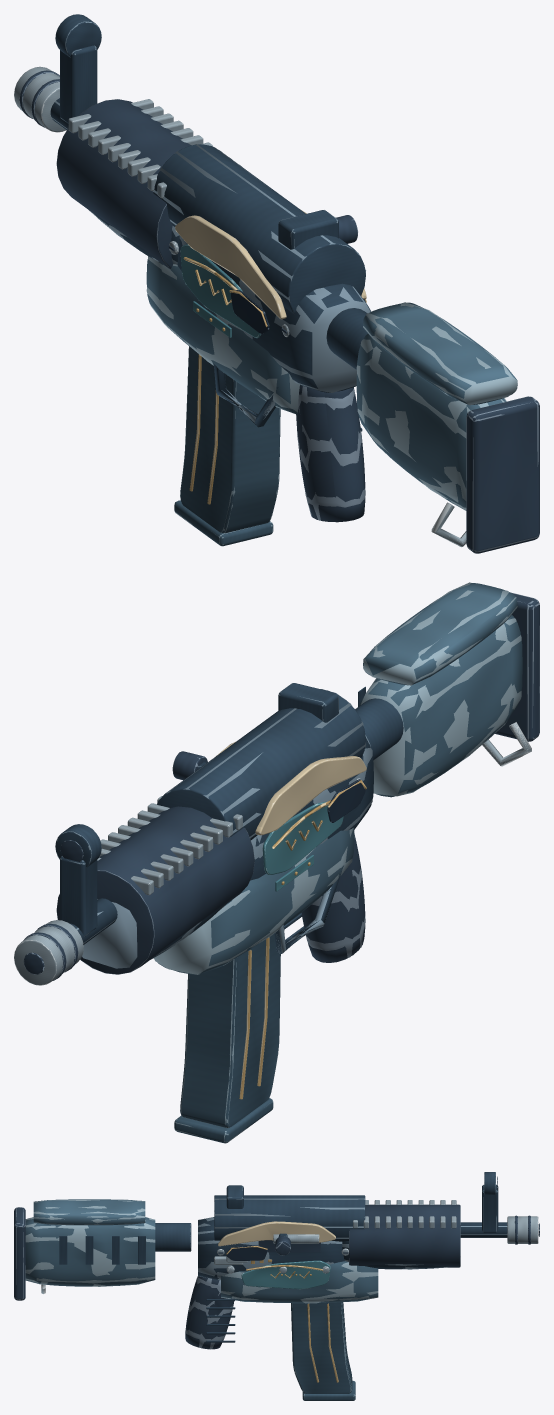
The model's file is anime-ump45.glb.
The picture shows the model from 3 angles, top to bottom: view 1: azimuth 30°, elevation 25°; view 2: azimuth 150°, elevation 25°; view 3: azimuth 270°, elevation 25°; orthographic projection. The views are drawn at different scales.
Visible parts, largest first — view 1: weapon_Polymer, weapon_Weapon finish / Polymer, weapon_Weapon finish / Parkerized steel, World paint, magazine_Magazine satin alloy, weapon_Parkerized steel, World hardware, weapon_Machined edges, weapon_Weapon finish / Ivory enamel, weapon_Inset blue ceramic, weapon_Recessed graphite mechanism, magazine_Etched brass detail; view 2: weapon_Weapon finish / Polymer, weapon_Polymer, World paint, magazine_Magazine satin alloy, weapon_Weapon finish / Parkerized steel, weapon_Parkerized steel, weapon_Machined edges, World hardware, weapon_Weapon finish / Ivory enamel, weapon_Inset blue ceramic, magazine_Etched brass detail, weapon_Recessed graphite mechanism; view 3: weapon_Weapon finish / Polymer, weapon_Polymer, weapon_Weapon finish / Parkerized steel, World paint, magazine_Magazine satin alloy, weapon_Parkerized steel, World hardware, weapon_Machined edges, weapon_Inset blue ceramic, weapon_Weapon finish / Ivory enamel, weapon_Recessed graphite mechanism, magazine_Etched brass detail (+2 smaller).
Part boxes in pixels (x1=…): weapon_Polymer: x1=19, y1=70, x2=539, y2=553; weapon_Weapon finish / Polymer: x1=146, y1=259, x2=517, y2=510; weapon_Weapon finish / Parkerized steel: x1=95, y1=144, x2=371, y2=392; World paint: x1=89, y1=144, x2=517, y2=510; magazine_Magazine satin alloy: x1=174, y1=346, x2=280, y2=546; weapon_Parkerized steel: x1=50, y1=14, x2=367, y2=431; World hardware: x1=14, y1=14, x2=539, y2=553; weapon_Machined edges: x1=14, y1=67, x2=466, y2=546; weapon_Weapon finish / Ivory enamel: x1=175, y1=209, x2=366, y2=319; weapon_Inset blue ceramic: x1=180, y1=244, x2=260, y2=338; weapon_Recessed graphite mechanism: x1=231, y1=290, x2=365, y2=334; magazine_Etched brass detail: x1=189, y1=354, x2=218, y2=504; weapon_Weapon finish / Polymer: x1=158, y1=583, x2=522, y2=974; weapon_Polymer: x1=23, y1=593, x2=539, y2=980; World paint: x1=82, y1=582, x2=521, y2=974; magazine_Magazine satin alloy: x1=174, y1=934, x2=280, y2=1143; weapon_Weapon finish / Parkerized steel: x1=118, y1=690, x2=373, y2=968; weapon_Parkerized steel: x1=55, y1=683, x2=403, y2=953; weapon_Machined edges: x1=14, y1=722, x2=531, y2=985; World hardware: x1=14, y1=592, x2=539, y2=1142; weapon_Weapon finish / Ivory enamel: x1=216, y1=741, x2=366, y2=835; weapon_Inset blue ceramic: x1=262, y1=801, x2=343, y2=891; magazine_Etched brass detail: x1=239, y1=938, x2=269, y2=1099; weapon_Recessed graphite mechanism: x1=327, y1=779, x2=365, y2=822; weapon_Weapon finish / Polymer: x1=25, y1=1199, x2=378, y2=1303; weapon_Polymer: x1=14, y1=1176, x2=539, y2=1349; weapon_Weapon finish / Parkerized steel: x1=198, y1=1195, x2=446, y2=1279; World paint: x1=25, y1=1198, x2=447, y2=1303; magazine_Magazine satin alloy: x1=291, y1=1302, x2=355, y2=1400; weapon_Parkerized steel: x1=59, y1=1172, x2=507, y2=1342; World hardware: x1=14, y1=1172, x2=539, y2=1400; weapon_Machined edges: x1=41, y1=1200, x2=538, y2=1293; weapon_Inset blue ceramic: x1=241, y1=1260, x2=330, y2=1289; weapon_Weapon finish / Ivory enamel: x1=218, y1=1221, x2=335, y2=1245; weapon_Recessed graphite mechanism: x1=226, y1=1245, x2=267, y2=1260; magazine_Etched brass detail: x1=307, y1=1304, x2=338, y2=1382.
Bounding box in the file's own units: 0.1331 × 0.372 × 0.801.
Materials: 12 (10 with a texture image).
